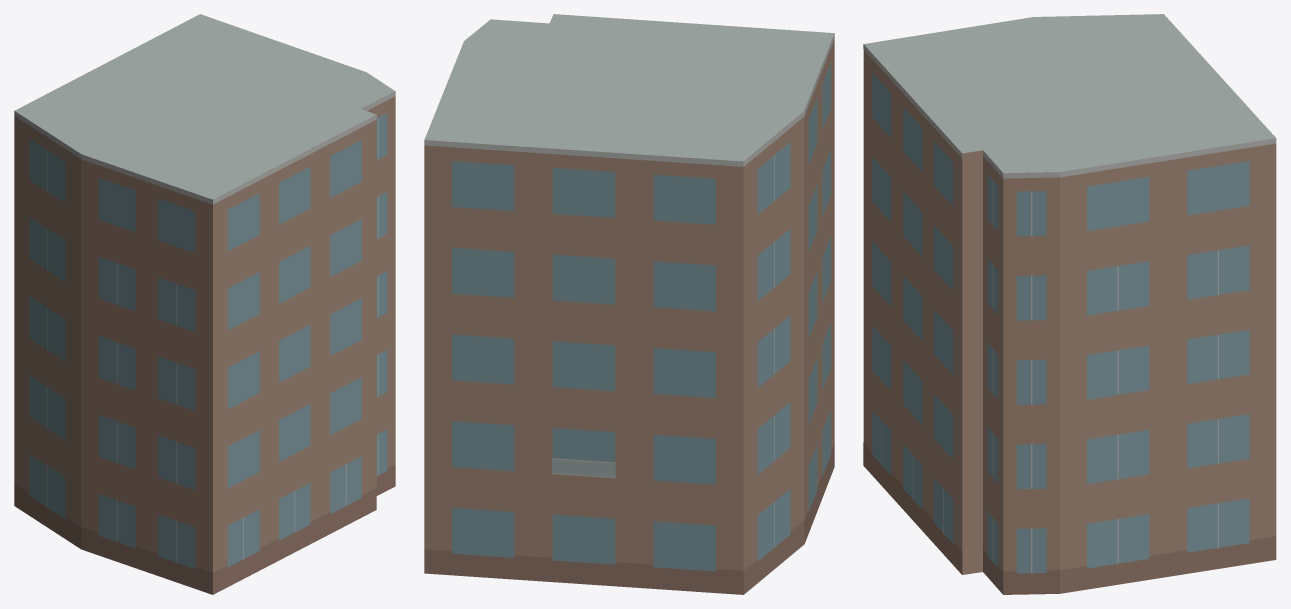
The model's file is survey-upis-32604121.glb.
3 views of the same model, side by side, from view 1: azimuth 30°, elevation 25°; view 2: azimuth 150°, elevation 25°; view 3: azimuth 270°, elevation 25° (orthographic). The views are drawn at different scales.
Visible parts, largest first — view 1: survey-upis-32604121.tmp; view 2: survey-upis-32604121.tmp; view 3: survey-upis-32604121.tmp.
Boxes of the visible parts, <box> form: survey-upis-32604121.tmp: <box>14,14,395,594</box>; survey-upis-32604121.tmp: <box>424,14,834,594</box>; survey-upis-32604121.tmp: <box>863,14,1276,594</box>.
Bounding box in the file's own units: 15.72 × 19.4 × 17.22.
